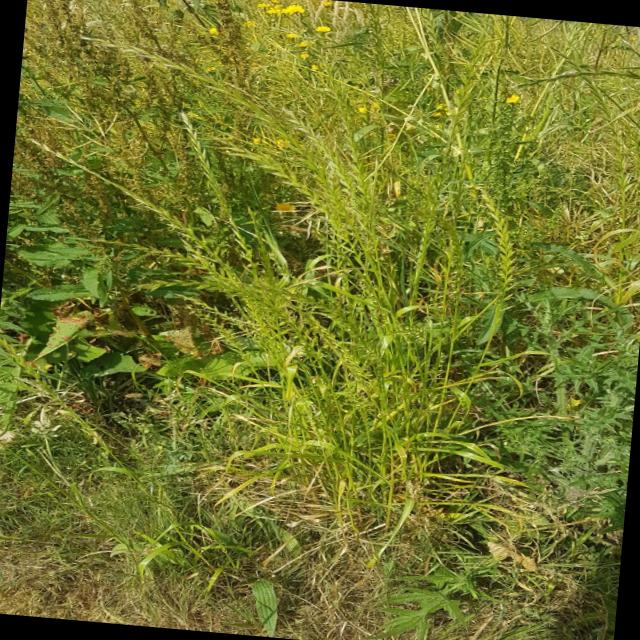Lolium: (39, 35, 540, 518), (80, 34, 284, 126), (272, 105, 384, 241), (131, 266, 364, 316), (460, 180, 522, 294)
